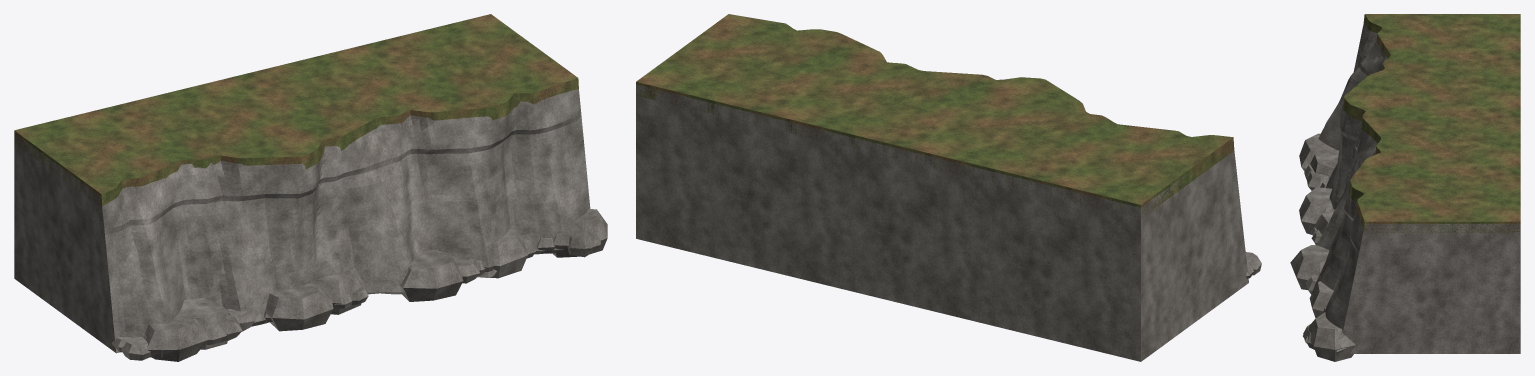
File: cliff_rocks-unity-v1.glb
3 views of the same model, side by side, from view 1: azimuth 30°, elevation 25°; view 2: azimuth 150°, elevation 25°; view 3: azimuth 270°, elevation 25° (orthographic). The views are drawn at different scales.
Parts seen in each view (by area): view 1: Continuous angular escarpment bedrock, Continuous soil and grass cliff crest, Embedded angular talus cluster.012, Embedded angular talus cluster.024, Embedded angular talus cluster, Embedded angular talus cluster.036, Embedded angular talus cluster.030, Embedded angular talus cluster.006, Embedded angular talus cluster.018, Embedded angular talus cluster.005; view 2: Continuous angular escarpment bedrock, Continuous soil and grass cliff crest; view 3: Continuous soil and grass cliff crest, Continuous angular escarpment bedrock, Embedded angular talus cluster.036, Embedded angular talus cluster.024, Embedded angular talus cluster.012, Embedded angular talus cluster.006, Embedded angular talus cluster, Embedded angular talus cluster.030, Embedded angular talus cluster.010, Embedded angular talus cluster.018.
Part boxes in pixels (x1,y1,x2,y2): Continuous angular escarpment bedrock: [14, 89, 590, 353]; Continuous soil and grass cliff crest: [14, 14, 578, 206]; Embedded angular talus cluster.012: [265, 283, 333, 331]; Embedded angular talus cluster.024: [400, 249, 463, 301]; Embedded angular talus cluster: [145, 314, 208, 361]; Embedded angular talus cluster.036: [552, 209, 607, 257]; Embedded angular talus cluster.030: [490, 229, 527, 278]; Embedded angular talus cluster.006: [178, 297, 228, 349]; Embedded angular talus cluster.018: [315, 269, 366, 314]; Embedded angular talus cluster.005: [121, 337, 150, 360]; Continuous angular escarpment bedrock: [636, 84, 1248, 361]; Continuous soil and grass cliff crest: [636, 14, 1234, 217]; Continuous soil and grass cliff crest: [1343, 14, 1520, 233]; Continuous angular escarpment bedrock: [1311, 24, 1520, 353]; Embedded angular talus cluster.036: [1304, 312, 1355, 361]; Embedded angular talus cluster.024: [1290, 245, 1329, 289]; Embedded angular talus cluster.012: [1299, 187, 1332, 234]; Embedded angular talus cluster.006: [1310, 149, 1338, 179]; Embedded angular talus cluster: [1299, 134, 1334, 171]; Embedded angular talus cluster.030: [1309, 281, 1333, 318]; Embedded angular talus cluster.010: [1306, 170, 1328, 190]; Embedded angular talus cluster.018: [1312, 208, 1334, 234].
Size of the model in its own units: 12.38 by 3.73 by 5.63.
Materials: 2 (2 with a texture image).
